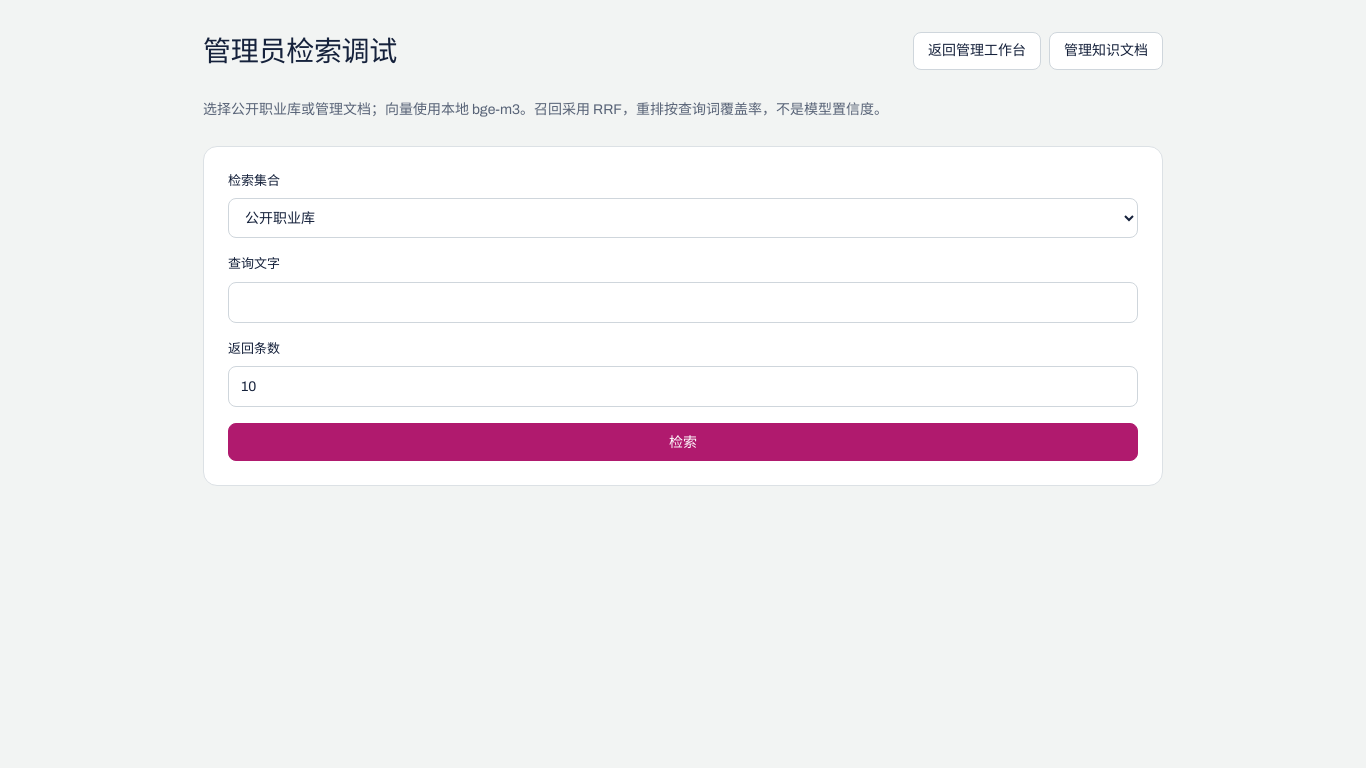
Test: displays recall and rerank scores independently, explicit vector degradation, empty and denied states
Type "Java" into the field labelled "查询文字". click: (683, 302)
box: [228, 282, 1138, 323]
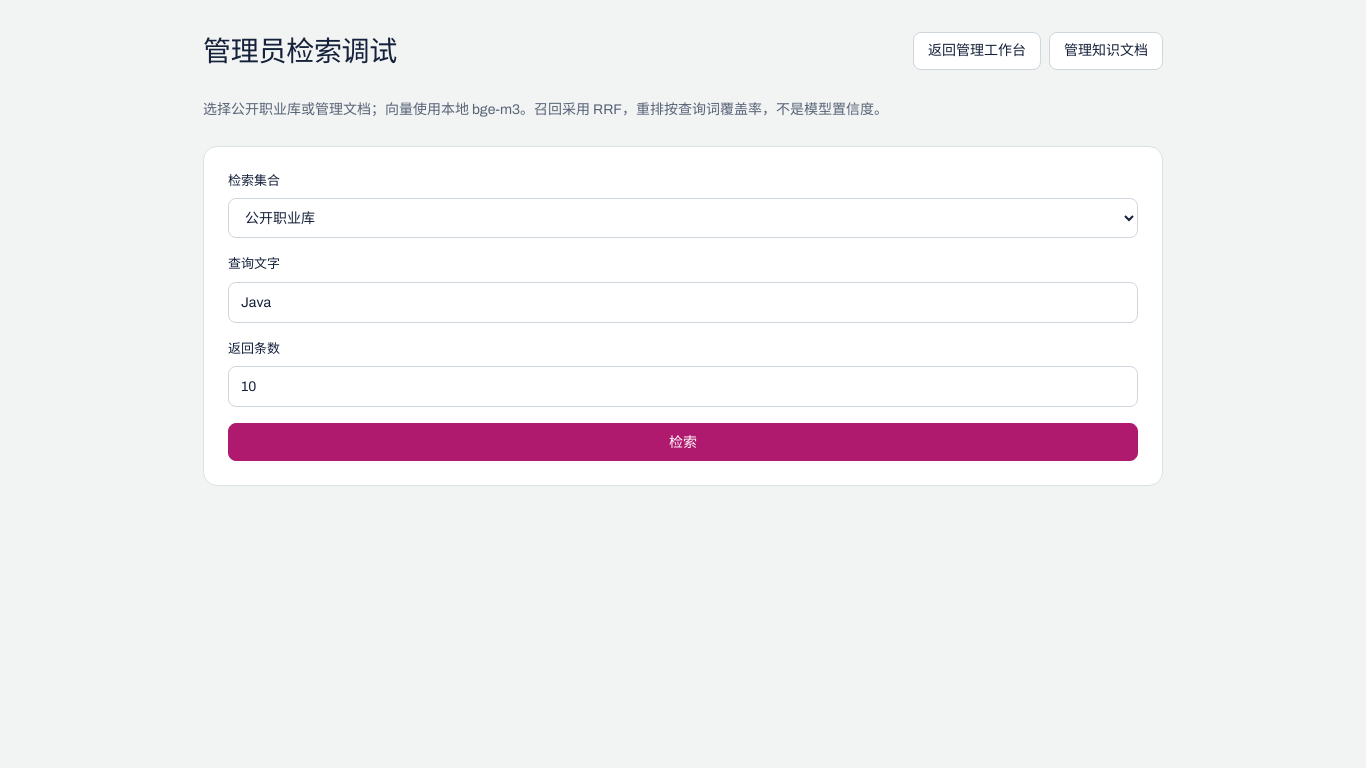
Submit the form, box [203, 146, 1163, 486]
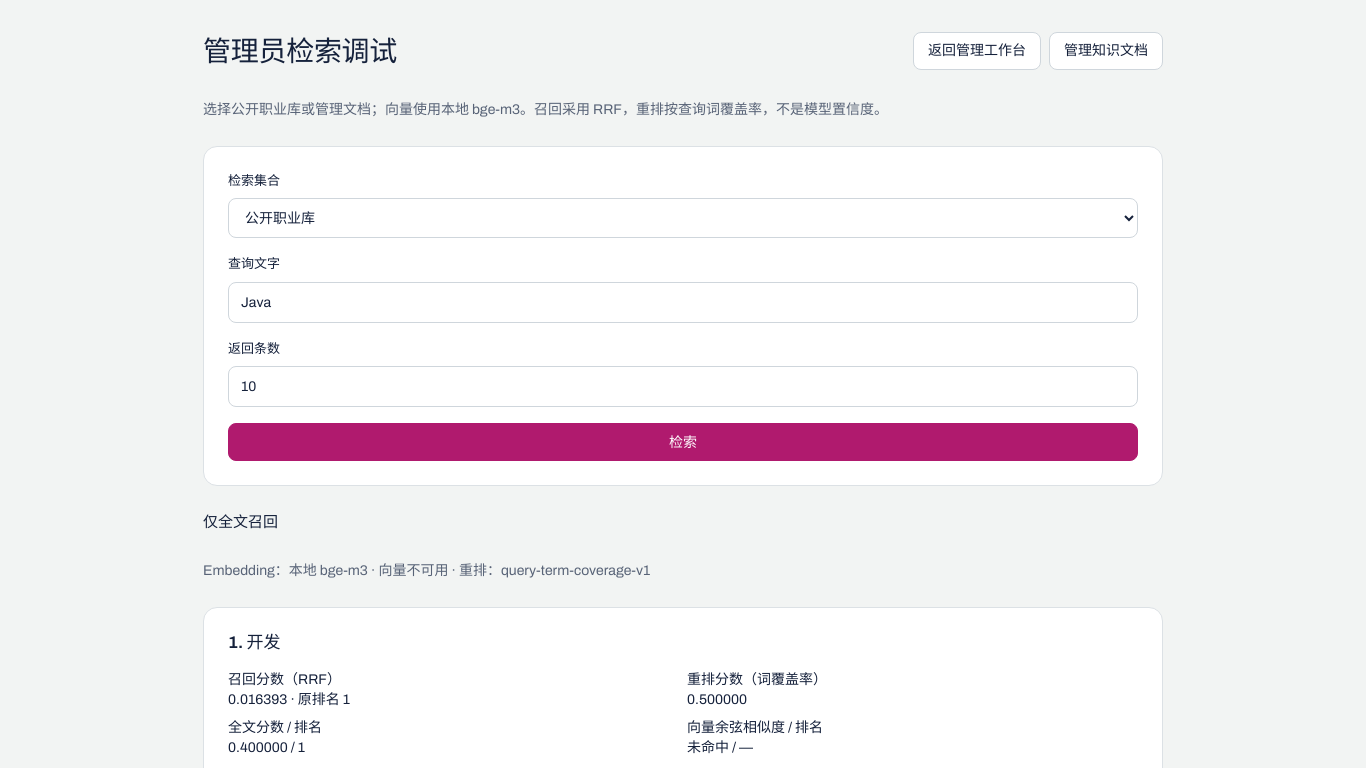
Expected: the text "0.016393" is shown, [228, 692, 350, 707]
Expected: the text "0.500000" is shown, [687, 692, 747, 707]
Expected: the text "未命中" is shown, [687, 740, 753, 755]
Select "管理知识文档" in the dropdown labelled "检索集合". click: (683, 218)
box: [228, 198, 1138, 238]
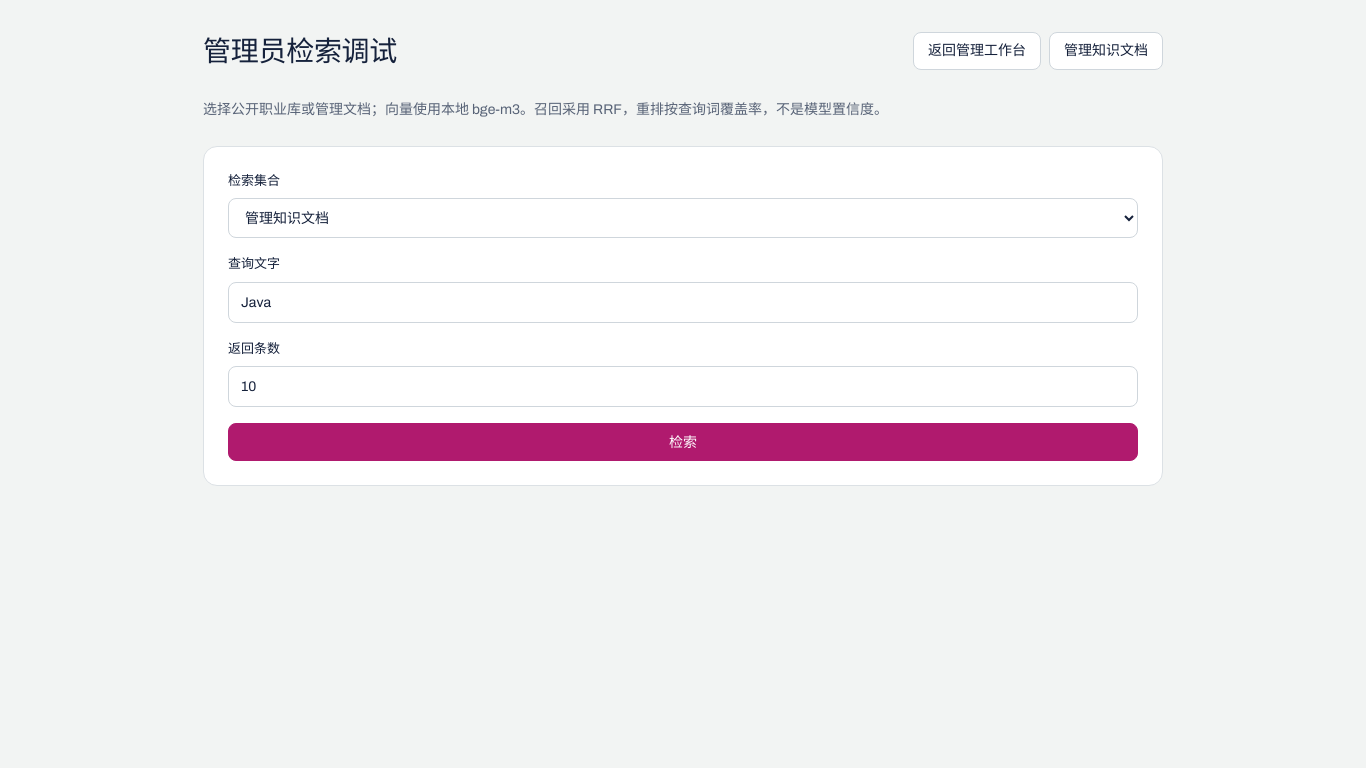
Submit the form, box [203, 146, 1163, 486]
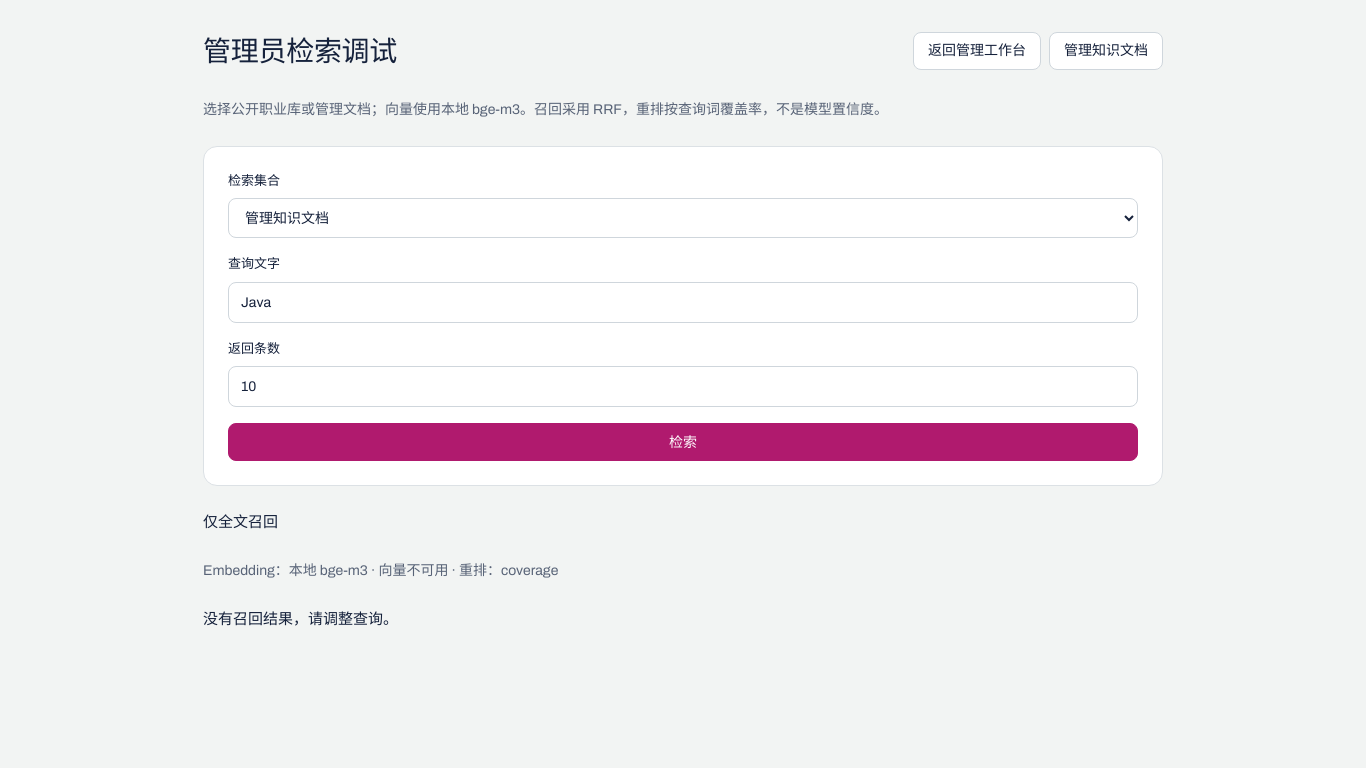
Expected: the text "没有召回结果" is shown, [203, 611, 398, 627]
Submit the form, box [203, 146, 1163, 486]
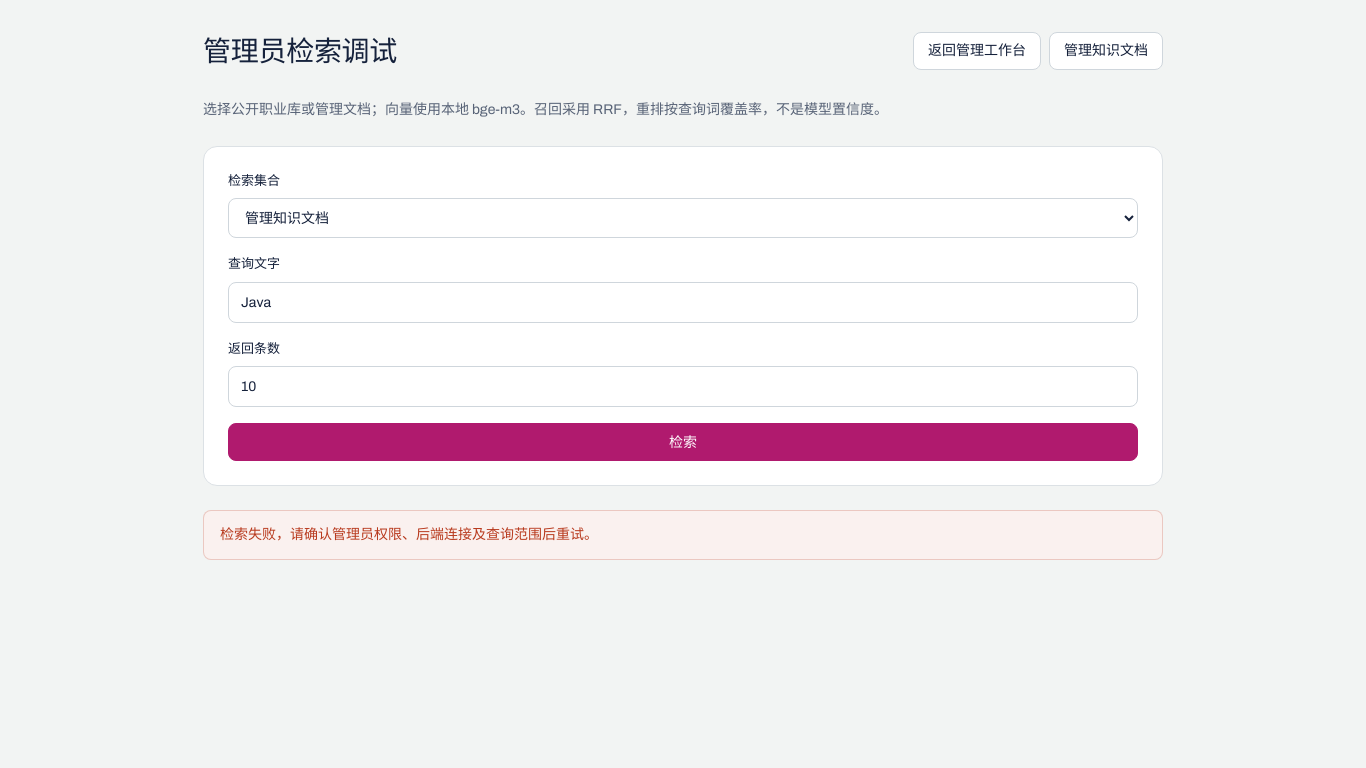
Expected: the text "确认管理员权限" is shown, [220, 527, 598, 542]
